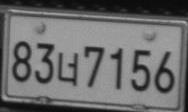1: (107, 47, 128, 90)
3: (33, 42, 55, 83)
5: (130, 49, 151, 91)
6: (153, 50, 175, 93)
7: (83, 46, 105, 88)
8: (11, 39, 32, 82)
너: (57, 50, 78, 86)
